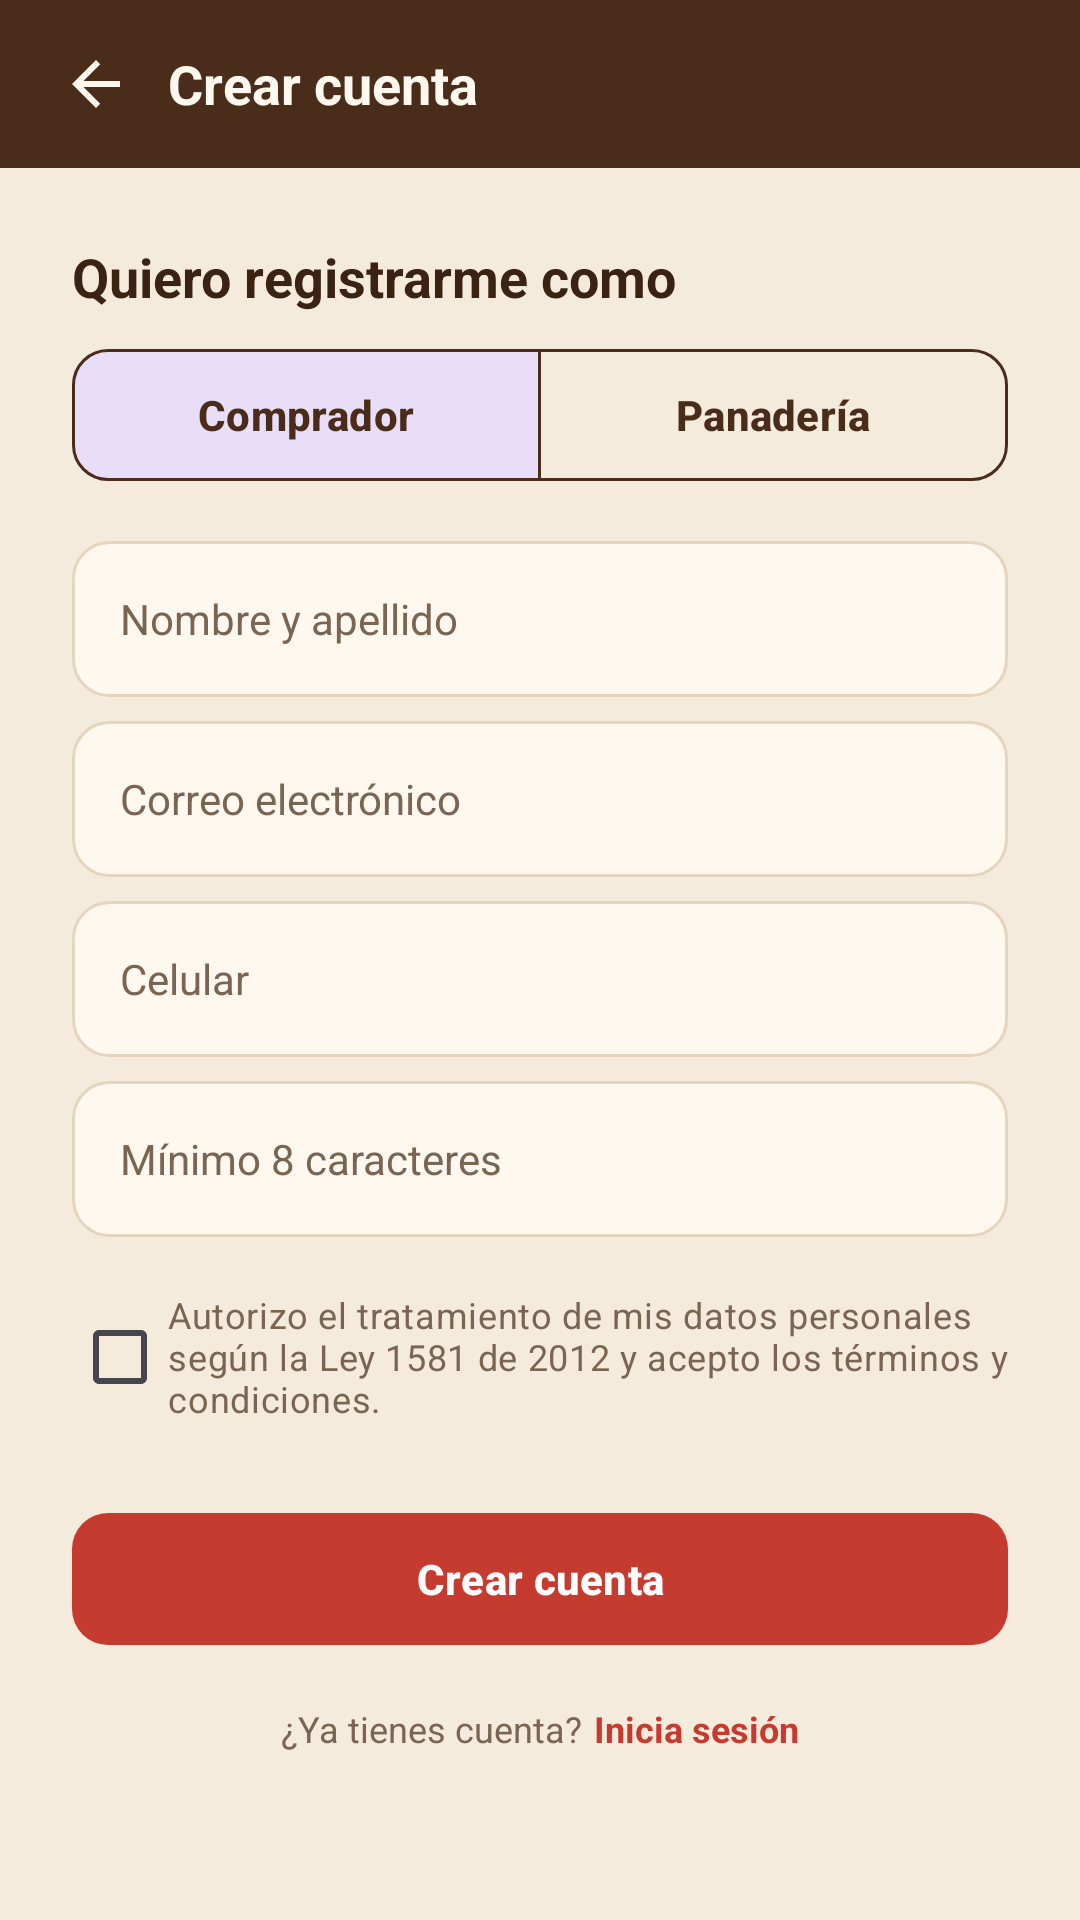

Named icons in this screenshot (1080px x 1920px) and their bounding boxes, (x1, y1, x2, y2):
Volver: (72, 60, 120, 108)
